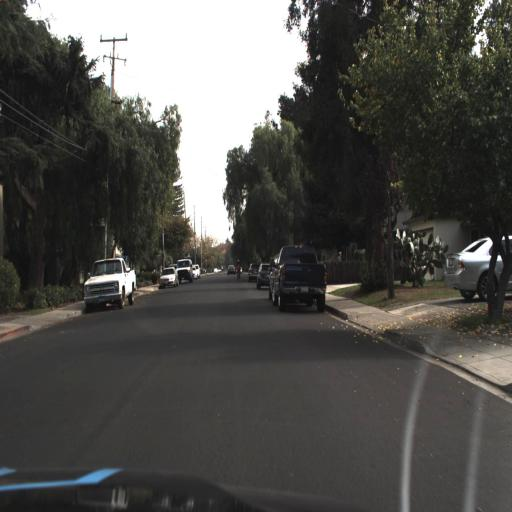car: (445, 233, 512, 305), (269, 241, 330, 309), (83, 253, 141, 314), (158, 265, 183, 291), (174, 257, 195, 284), (257, 259, 274, 291)
